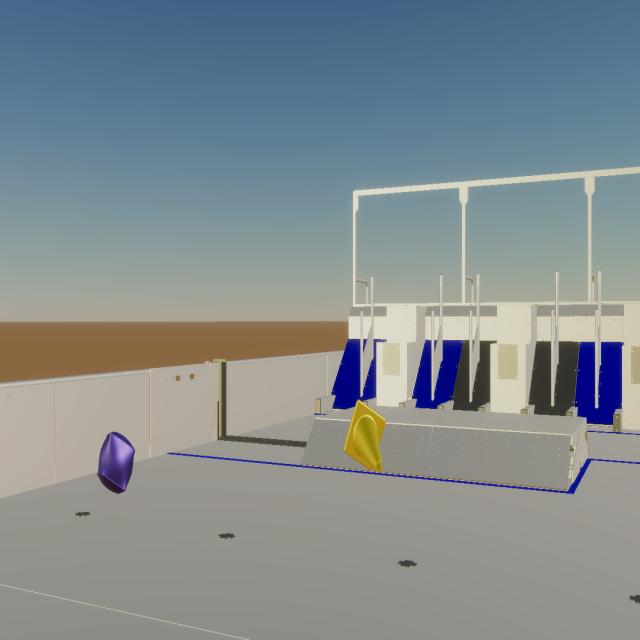frc_cone: (344, 399, 386, 473)
frc_cube: (97, 432, 135, 494)
